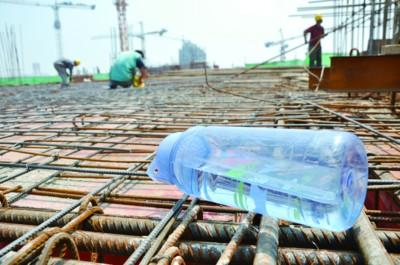helmet: (136, 48, 149, 60), (315, 14, 326, 25), (75, 58, 83, 69)
